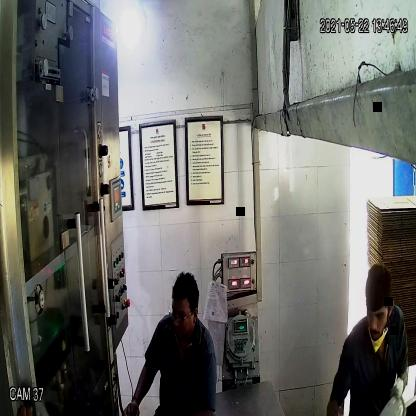goggles: (166, 304, 196, 326)
no_goggles: (362, 303, 390, 325)
